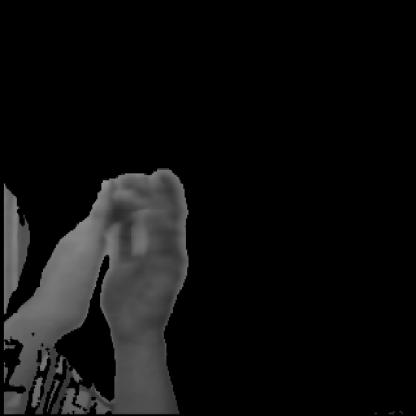clap: (36, 161, 200, 361)
